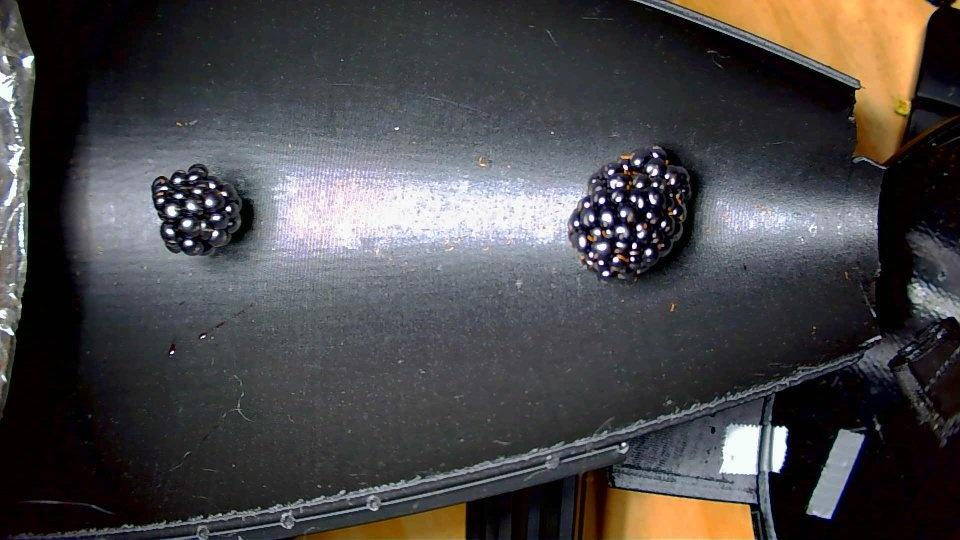berry: (568, 147, 691, 279), (152, 164, 242, 255)
